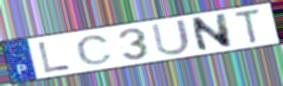3: (116, 27, 150, 62)
C: (74, 34, 115, 66)
L: (36, 40, 74, 74)
N: (188, 11, 235, 54)
T: (232, 7, 264, 46)
U: (149, 17, 193, 57)
